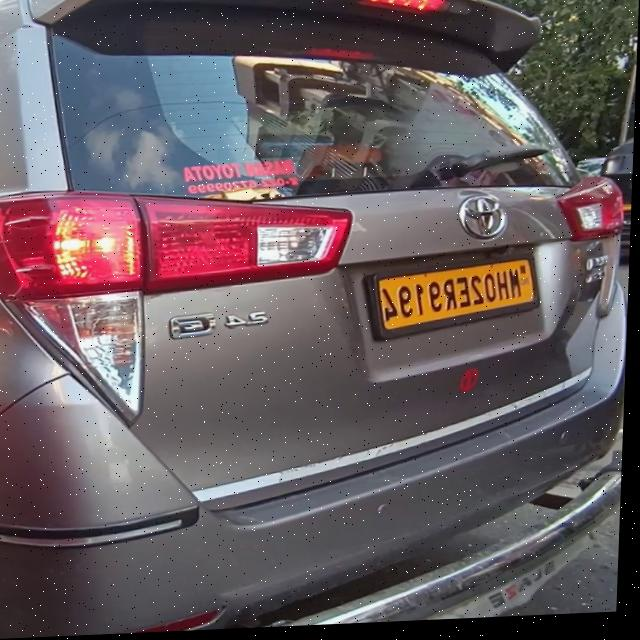plate: (363, 254, 547, 345)
